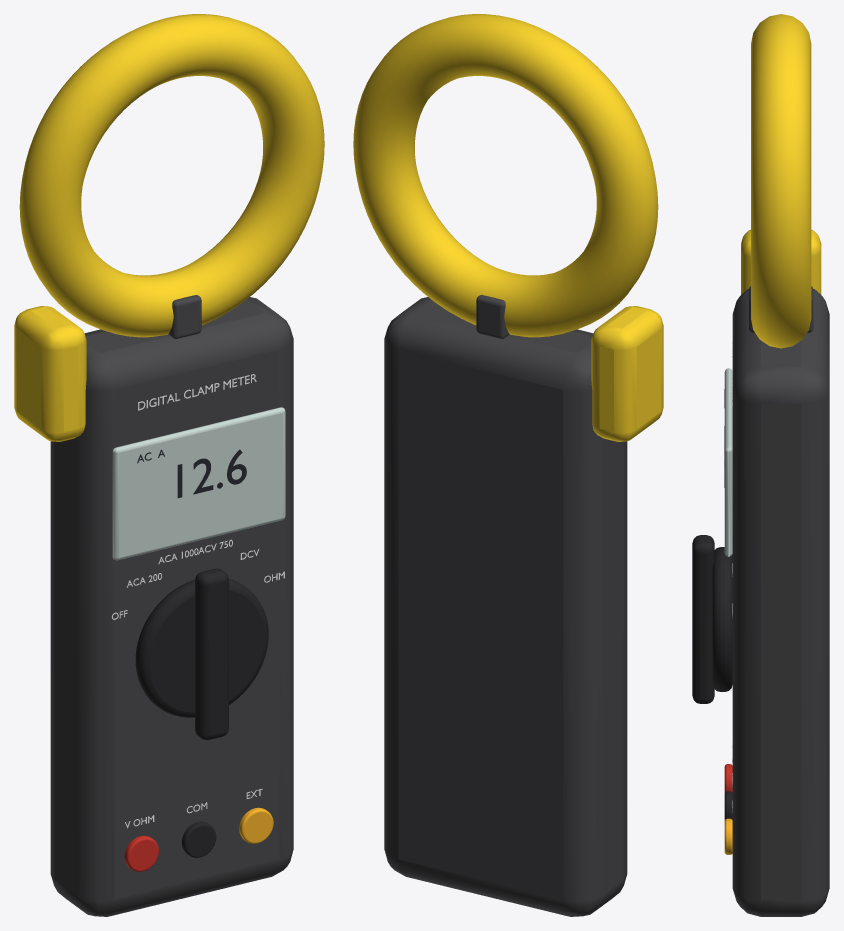
File: clamp_meter.glb
The picture shows the model from 3 angles, left to right: view 1: azimuth 30°, elevation 25°; view 2: azimuth 150°, elevation 25°; view 3: azimuth 270°, elevation 25°; orthographic projection. The views are drawn at different scales.
Parts seen in each view (by area): view 1: body; view 2: body; view 3: body.
Boxes of the visible parts, x1=… form: body: x1=14, y1=14, x2=324, y2=916; body: x1=353, y1=14, x2=663, y2=916; body: x1=692, y1=14, x2=829, y2=916.
Bounding box in the file's own units: 0.083 × 0.2315 × 0.034.
